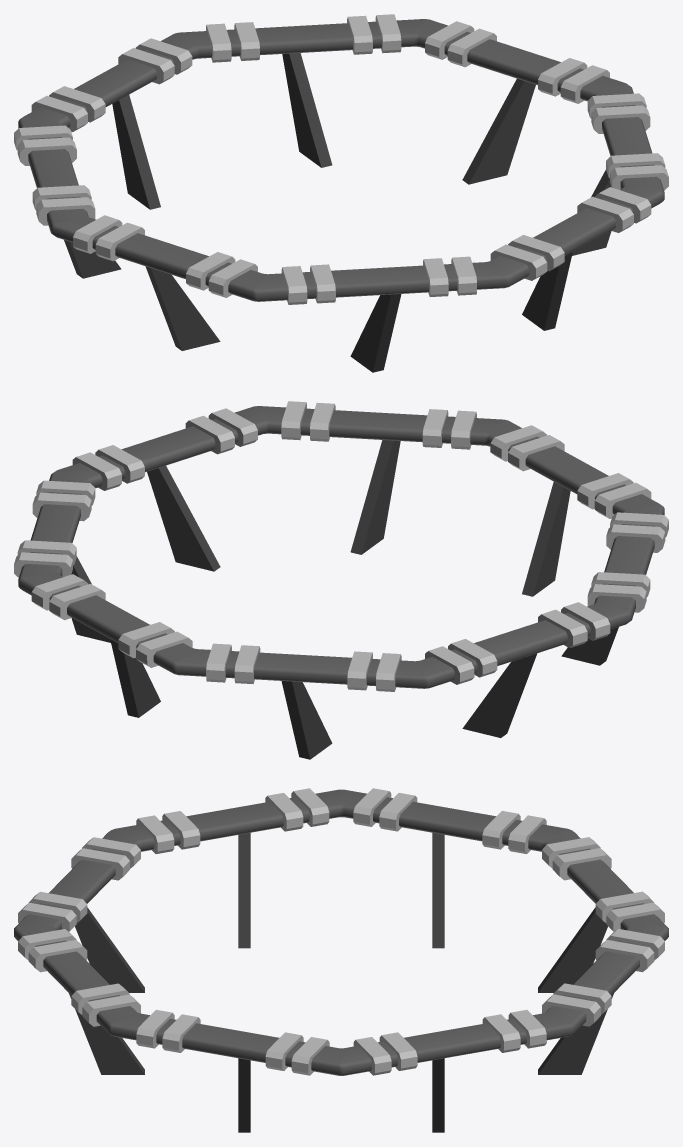
File: antenna_003.fbx
3 views of the same model, one above another, from view 1: azimuth 30°, elevation 25°; view 2: azimuth 150°, elevation 25°; view 3: azimuth 270°, elevation 25° (orthographic).
Parts seen in each view (by area): view 1: antenna_003; view 2: antenna_003; view 3: antenna_003.
Boxes of the visible parts, left/top/right/bottom form: antenna_003: left=14, top=14, right=668, bottom=372; antenna_003: left=14, top=401, right=668, bottom=759; antenna_003: left=14, top=788, right=668, bottom=1132.
Size of the model in its own units: 1131 by 1131 by 206.
